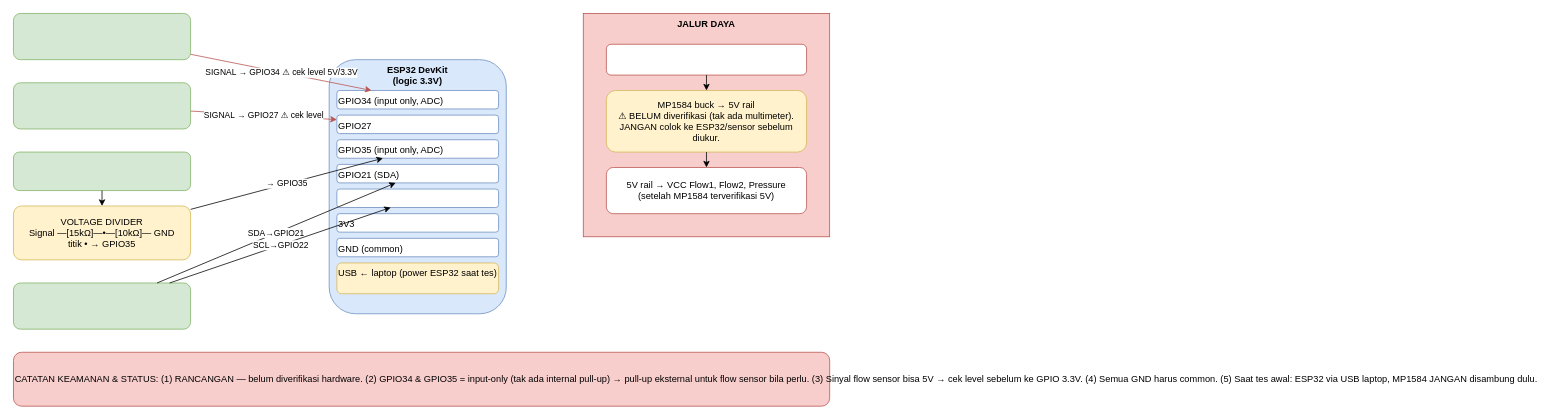
Image size: 1551x420. Some labels were removed from this diagram. Each missing label, with the centre of its shape:
Adaptor 12V 2A (AC-DC): the point at 706,59
Flow Sensor 1 (YF-S201 type) VCC=5V, GND, SIGNAL (pulsa): the point at 102,36
Flow Sensor 2 (YF-S201 type) VCC=5V, GND, SIGNAL (pulsa): the point at 102,105
GPIO22 (SCL): the point at 417,198
INA219 (I2C) VCC dari 3V3 ESP32: the point at 102,305
Pressure Sensor output 0.5–4.5V, VCC=5V: the point at 102,171
